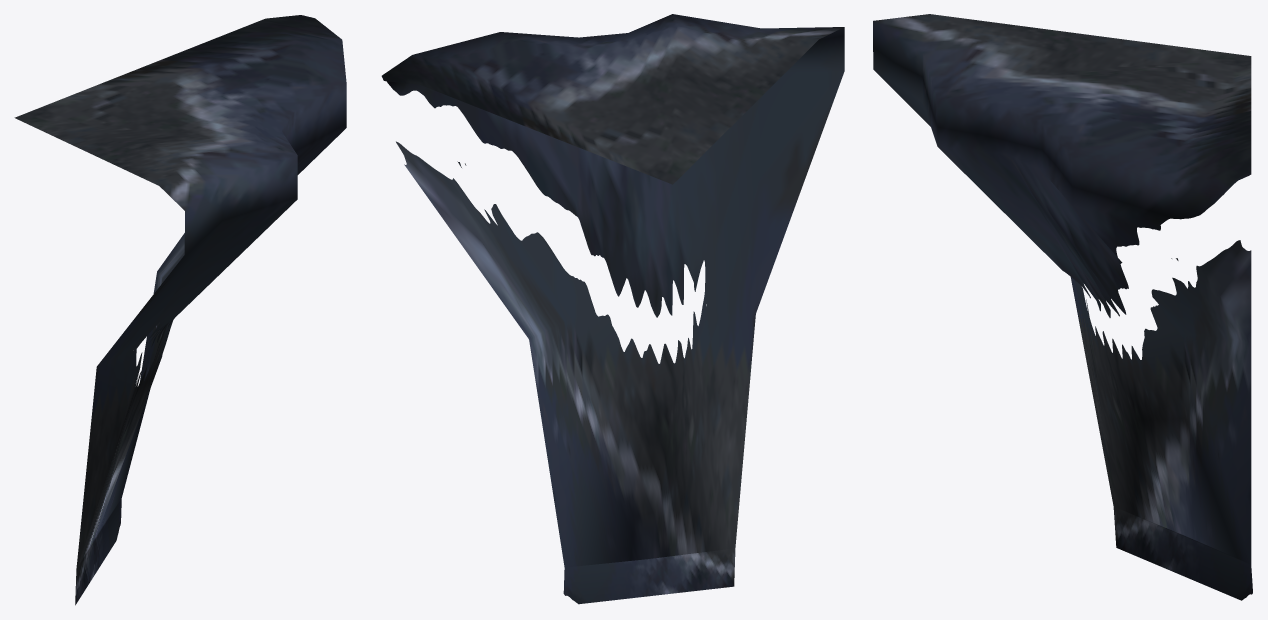
The model's file is mine_trim_convex_01.fbx.
3 views of the same model, side by side, from view 1: azimuth 30°, elevation 25°; view 2: azimuth 150°, elevation 25°; view 3: azimuth 270°, elevation 25° (orthographic). The views are drawn at different scales.
Visible parts, largest first — view 1: mine_tileset/mine_trim_03_mat; view 2: mine_tileset/mine_trim_03_mat; view 3: mine_tileset/mine_trim_03_mat.
Boxes of the visible parts, x1,y1,x2,y2 form: mine_tileset/mine_trim_03_mat: (14, 15, 346, 605); mine_tileset/mine_trim_03_mat: (381, 14, 844, 604); mine_tileset/mine_trim_03_mat: (873, 14, 1252, 600).
Size of the model in its own units: 1.06 by 1.65 by 1.07.
